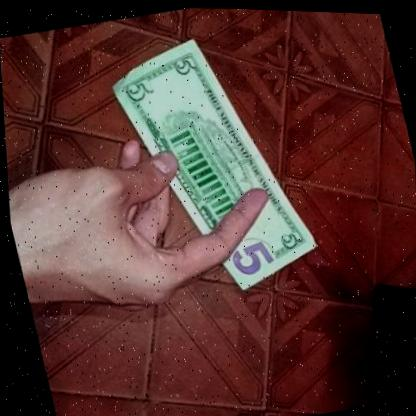five-back: (96, 17, 324, 310)
